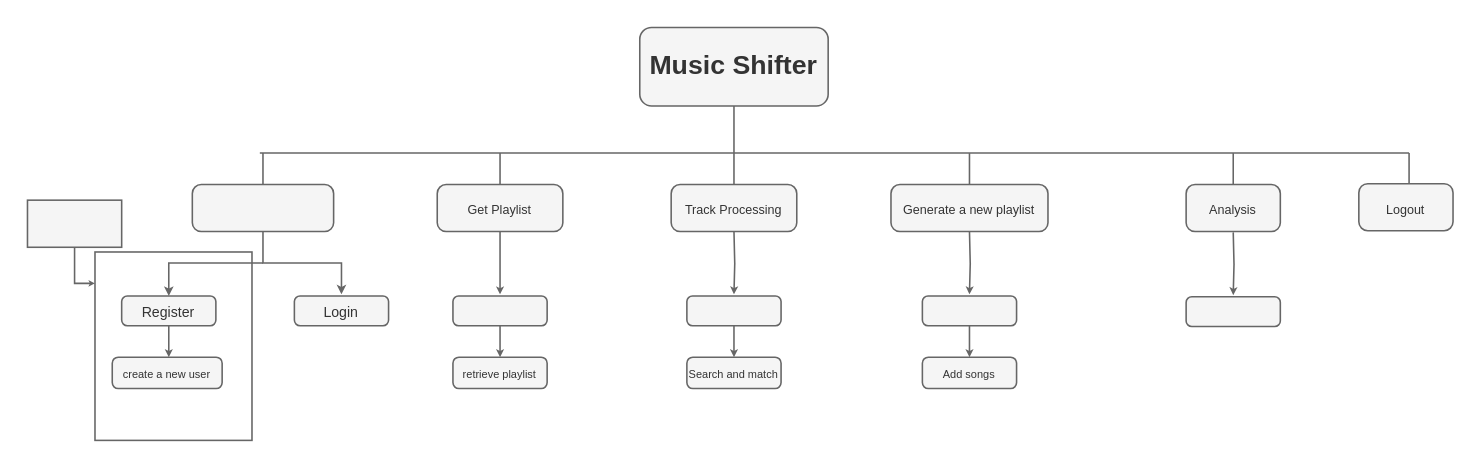
Some shapes in this 1481 by 468 pixel diagram are drawn without their labels. Here are the shapes that lost their labels. From the top down, the centre of each, then its label:
At point (74, 223): "If not logged in".
At point (262, 207): "User Authentication".
At point (499, 310): "OAuth process".
At point (733, 310): "Extract data".
At point (969, 310): "create playlist".
At point (1232, 311): "Generate graphs".
